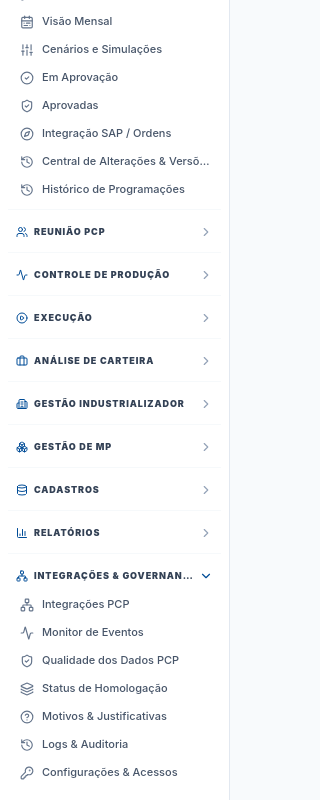
Test: PCPNavigation — Integrações & Governança Acceptance Suite › Teste 5: Expansão manual — Clicar no cabeçalho alterna entre recolhido e expandido
(page scrolled)
Check: the text "Logs & Auditoria" is shown, box 42,737 -> 128,751
// Clica para recolher
Step 1. Click the button "INTEGRAÇÕES & GOVERNANÇA" → point(114, 576), box 16,569 -> 213,583
(page scrolled)
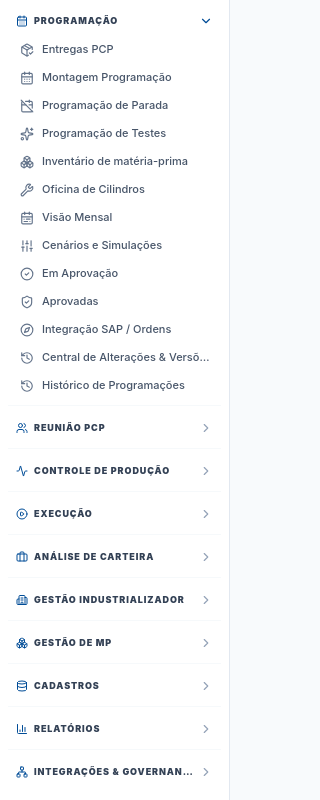
Check: the link "Logs & Auditoria" is gone
// Clica novamente para expandir
Step 2. Click the button "INTEGRAÇÕES & GOVERNANÇA" → point(114, 772), box 16,765 -> 213,779
(page scrolled)
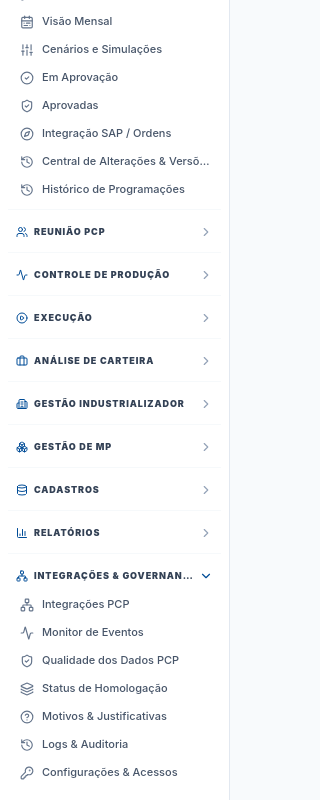
Check: the text "Logs & Auditoria" is shown, box 42,737 -> 128,751
Check: the text "Integrações PCP" is shown, box 42,597 -> 130,611
Check: the text "Configurações & Acessos" is shown, box 42,765 -> 178,779
